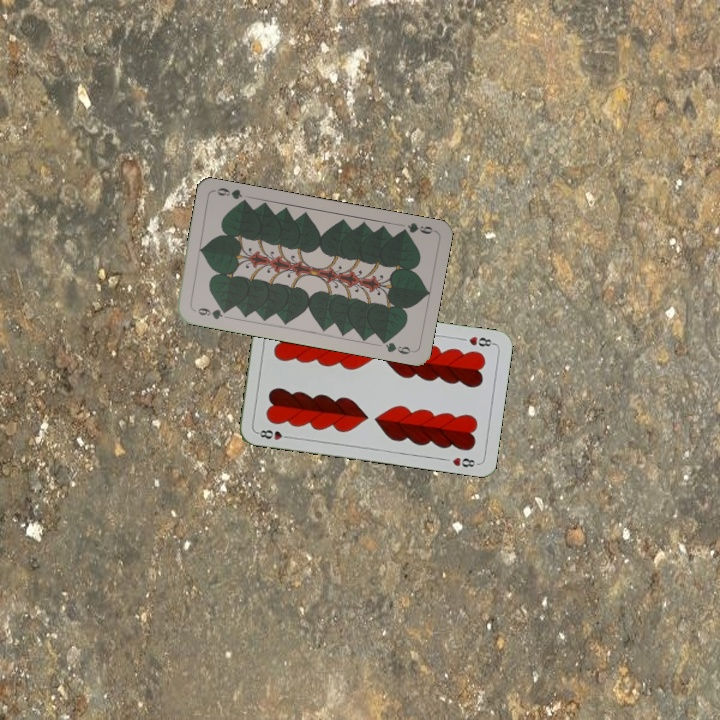G9: (189, 304, 231, 322), (395, 219, 437, 237)
H8: (253, 426, 294, 442), (465, 332, 497, 349)
